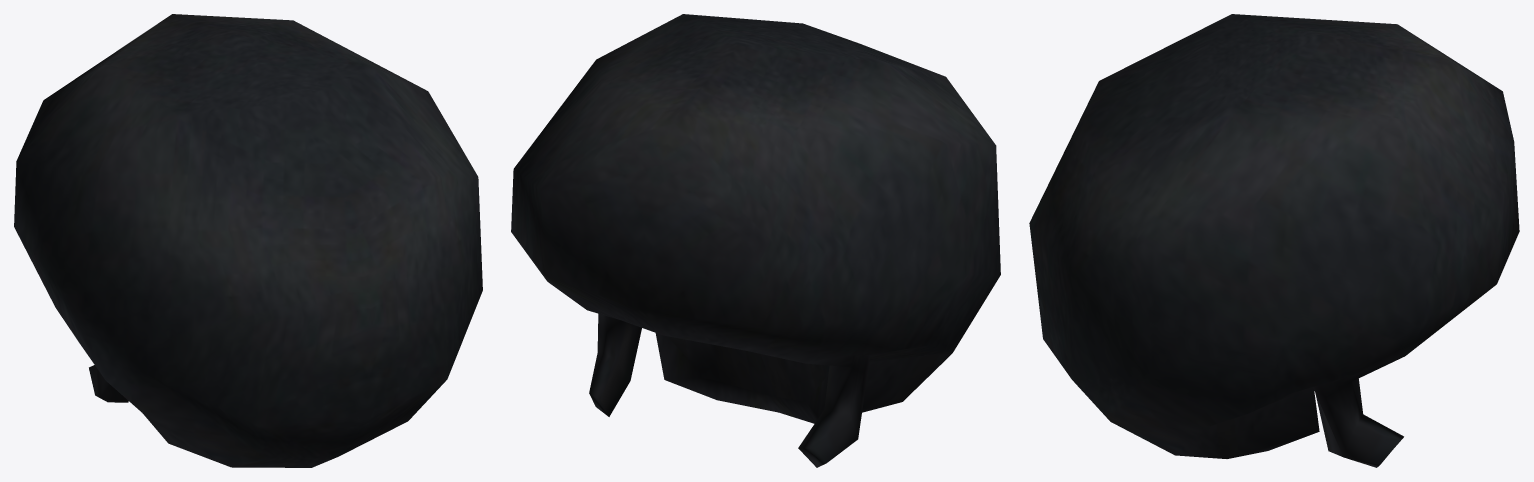
Rendered from afro.glb.
3 views of the same model, side by side, from view 1: azimuth 30°, elevation 25°; view 2: azimuth 150°, elevation 25°; view 3: azimuth 270°, elevation 25° (orthographic). The views are drawn at different scales.
Parts seen in each view (by area): view 1: afro; view 2: afro; view 3: afro.
Boxes of the visible parts, left/top/right/bottom form: afro: left=14, top=14, right=482, bottom=467; afro: left=511, top=14, right=1000, bottom=467; afro: left=1029, top=14, right=1519, bottom=467.
Size of the model in its own units: 0.4674 by 0.4354 by 0.4847.
1 material, 1 textured.
